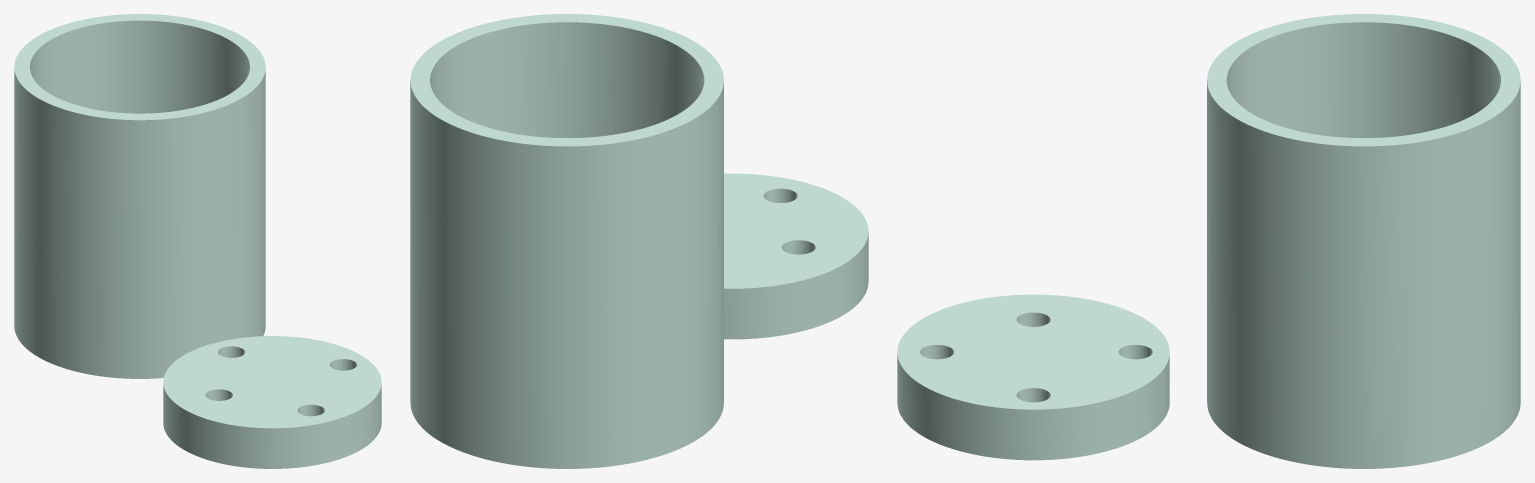
The picture shows the model from 3 angles, left to right: view 1: azimuth 30°, elevation 25°; view 2: azimuth 150°, elevation 25°; view 3: azimuth 270°, elevation 25°; orthographic projection. The views are drawn at different scales.
Parts seen in each view (by area): view 1: Renderer Node; view 2: Renderer Node; view 3: Renderer Node.
Part boxes in pixels (x1=…): Renderer Node: x1=14, y1=14, x2=381, y2=468; Renderer Node: x1=410, y1=14, x2=868, y2=468; Renderer Node: x1=897, y1=14, x2=1520, y2=468.
Size of the model in its own units: 0.4814 by 0.5469 by 0.9575.
